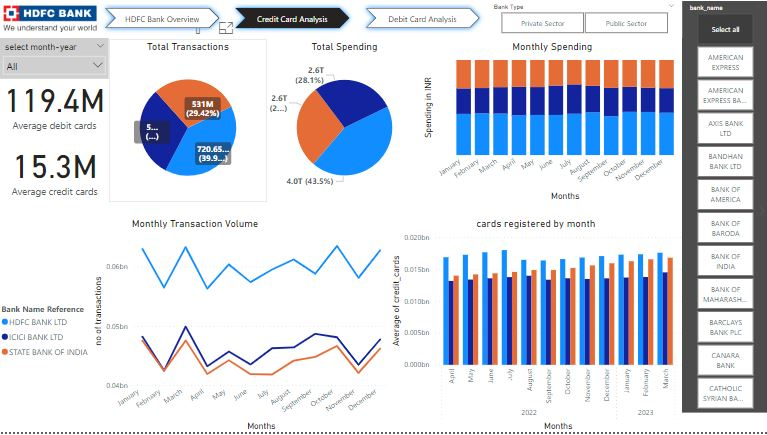

The page's visual inventory and layout, read from the dashboard file:
{"tool":"powerbi","page":{"name":"Credit Card Analysis","canvas":[1280,720],"ordinal":1},"visuals":[{"type":"card","fields":{"Values":["Avg(RBI_22-23.credit_cards)"]},"box":[0,225,181.7,111.7],"z":0},{"type":"card","fields":{"Values":["Avg(RBI_22-23.debit_cards)"]},"box":[0,116.8,181,108.6],"z":1000},{"type":"lineChart","title":"Monthly Transaction Volume","fields":{"Category":["RBI_22-23.month_year.Variation.Date Hierarchy.Year","RBI_22-23.month_year.Variation.Date Hierarchy.Month"],"Y":["RBI_22-23.credit transactions"],"Series":["RBI_22-23.bank_name"]},"box":[0,360,650,360],"z":2000},{"type":"hundredPercentStackedColumnChart","title":"Monthly Spending","fields":{"Category":["RBI_22-23.month_year.Variation.Date Hierarchy.Month"],"Y":["RBI_22-23.credit spending"],"Series":["RBI_22-23.bank_name"]},"box":[702.5,65.8,434.3,271.5],"z":3000},{"type":"pieChart","title":"Total Transactions","fields":{"Y":["RBI_22-23.credit card transactions"],"Category":["RBI_22-23.bank_name"]},"box":[181,65.8,263.2,271.5],"z":4000},{"type":"pieChart","title":"Total Spending","fields":{"Y":["RBI_22-23.credit spending"],"Category":["RBI_22-23.bank_name"]},"box":[444.2,65.8,258.3,271.5],"z":5000},{"type":"clusteredColumnChart","title":"cards registered by month","fields":{"Y":["Avg(RBI_22-23.credit_cards)"],"Series":["RBI_22-23.bank_name"],"Category":["RBI_22-23.month_year.Variation.Date Hierarchy.Year","RBI_22-23.month_year.Variation.Date Hierarchy.Month"]},"box":[650,360,486.7,360],"z":6000},{"type":"slicer","fields":{"Values":["RBI_22-23.month_year"]},"box":[0,63.4,181.4,67.7],"z":7000},{"type":"image","box":[0,1.7,166.7,58.3],"z":8000},{"type":"slicer","fields":{"Values":["RBI_22-23.bank_name"]},"box":[1136.4,2,143.4,685.9],"z":9000},{"type":"slicer","fields":{"Values":["RBI_22-23.Bank Type"]},"box":[810,0,326.7,61.7],"z":10000},{"type":"pageNavigator","box":[166.7,5,643.3,50],"z":11000}]}

Visuals, with their boxes in screenshot pixels (x1, y1, x2, y2), scaled from the page's 1280x720 canvas onto the 767x435 screenshot:
card - Avg(RBI_22-23.credit_cards): bbox=(0, 136, 109, 203)
card - Avg(RBI_22-23.debit_cards): bbox=(0, 71, 108, 136)
"Monthly Transaction Volume" lineChart: bbox=(0, 218, 389, 434)
"Monthly Spending" hundredPercentStackedColumnChart: bbox=(421, 40, 681, 204)
"Total Transactions" pieChart: bbox=(108, 40, 266, 204)
"Total Spending" pieChart: bbox=(266, 40, 421, 204)
"cards registered by month" clusteredColumnChart: bbox=(389, 218, 681, 434)
slicer - RBI_22-23.month_year: bbox=(0, 38, 109, 79)
image: bbox=(0, 1, 100, 36)
slicer - RBI_22-23.bank_name: bbox=(681, 1, 766, 416)
slicer - RBI_22-23.Bank Type: bbox=(485, 0, 681, 37)
pageNavigator: bbox=(100, 3, 485, 33)
